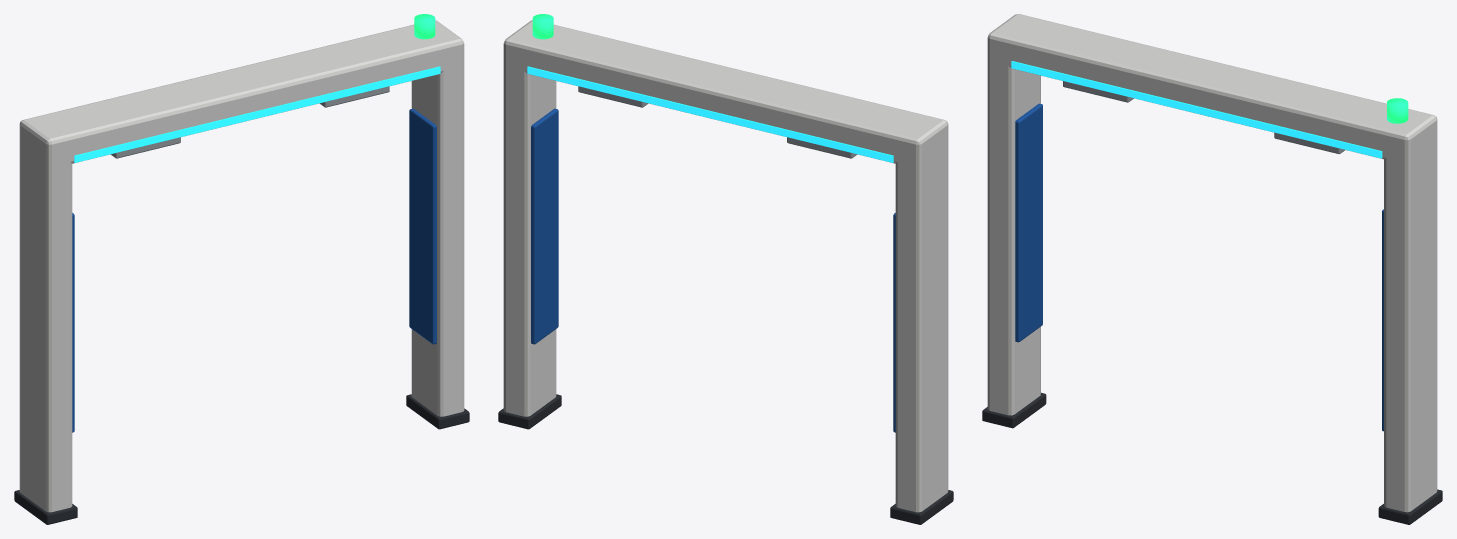
File: rfid_gate.glb
The picture shows the model from 3 angles, left to right: view 1: azimuth 30°, elevation 25°; view 2: azimuth 150°, elevation 25°; view 3: azimuth 330°, elevation 25°; orthographic projection.
Visible parts, largest first — view 1: rfid_gate; view 2: rfid_gate; view 3: rfid_gate.
Part boxes in pixels (<box>): rfid_gate: <box>14,14,469,524</box>; rfid_gate: <box>498,14,953,524</box>; rfid_gate: <box>982,14,1442,524</box>.
Bounding box in the file's own units: 3.24 × 2.92 × 0.44.
